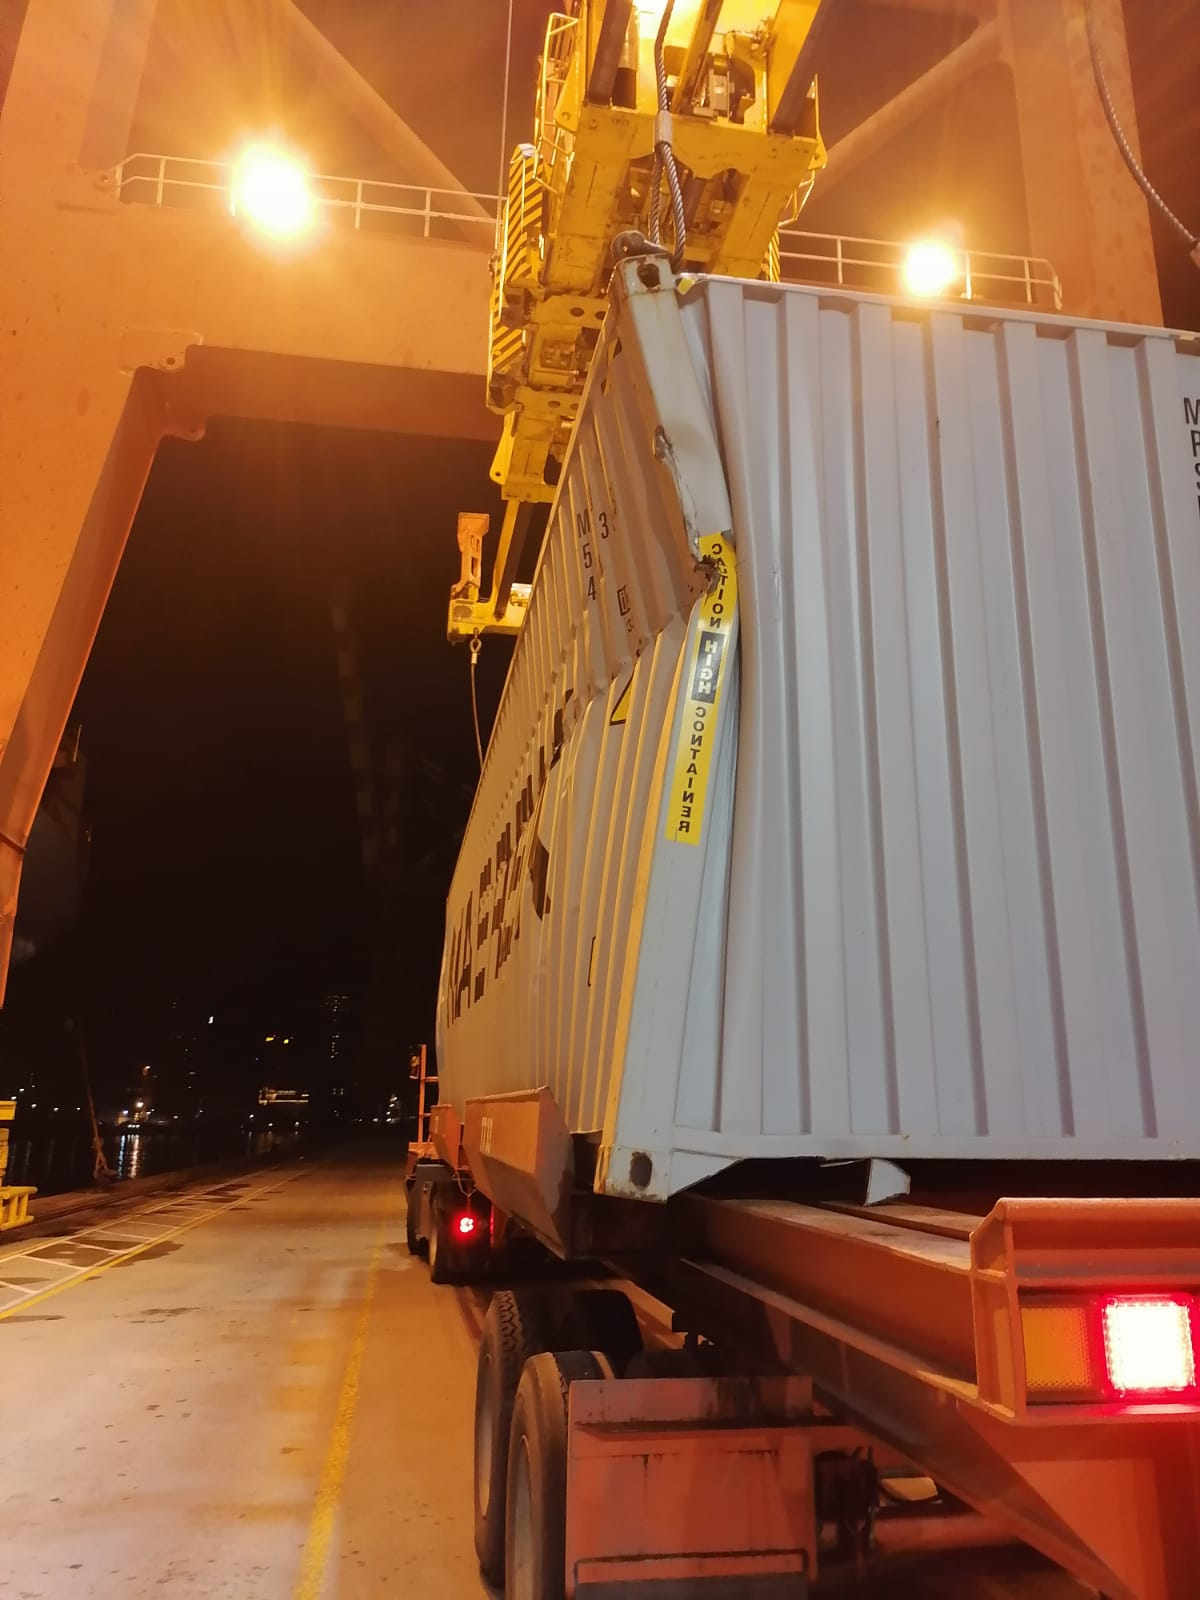dented: (606, 282, 866, 871)
